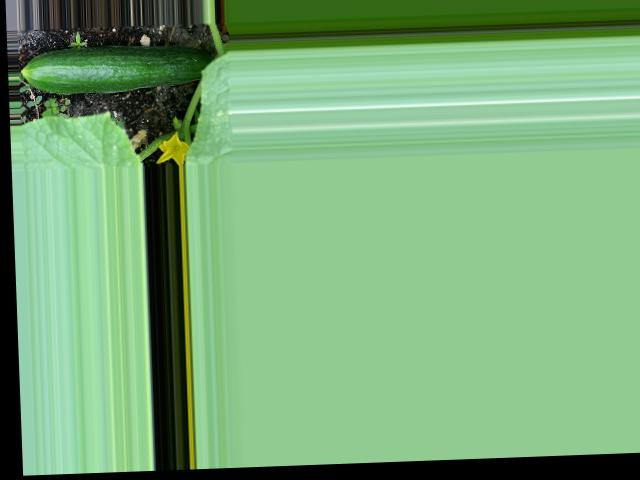cucumber: (19, 41, 212, 96)
